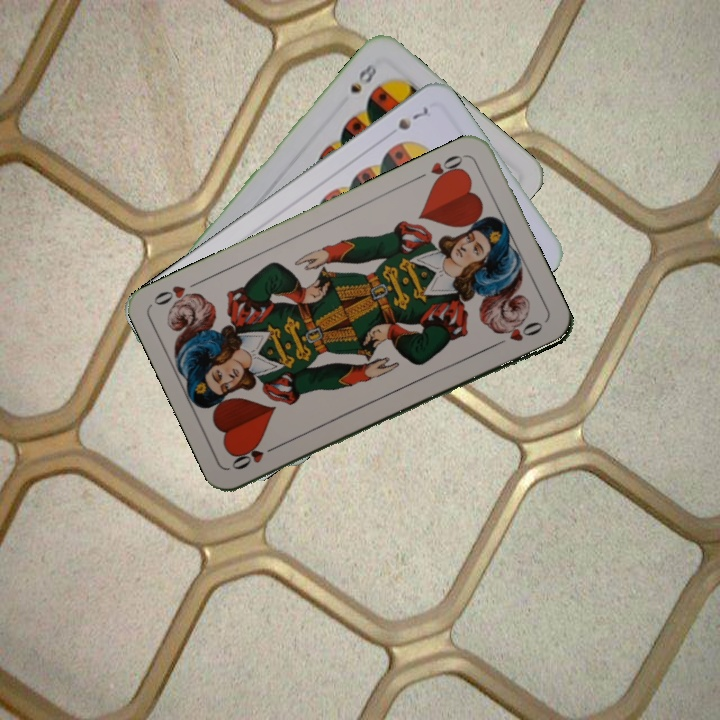HO: (412, 150, 468, 188), (227, 440, 284, 473)
S7: (394, 103, 432, 133)
S8: (346, 59, 380, 96)
